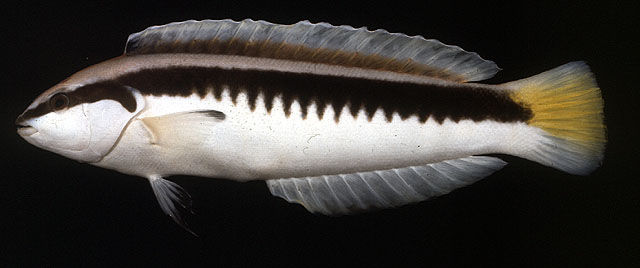fish: (15, 19, 605, 227)
